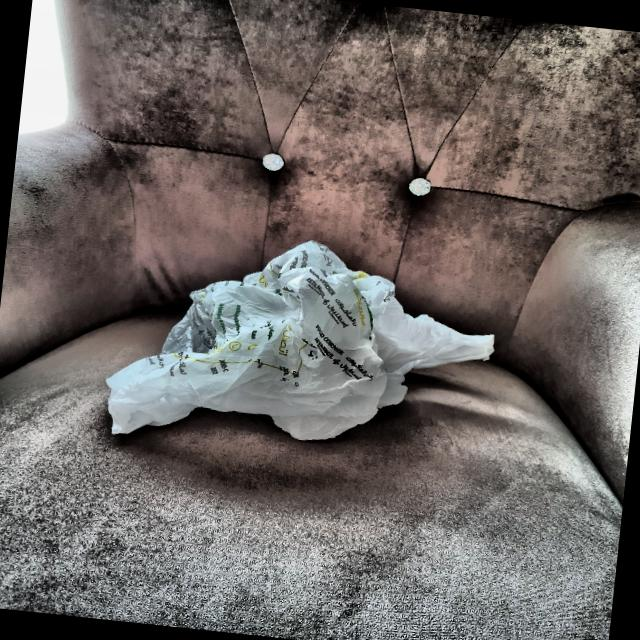plastic bag: (102, 198, 504, 471)
